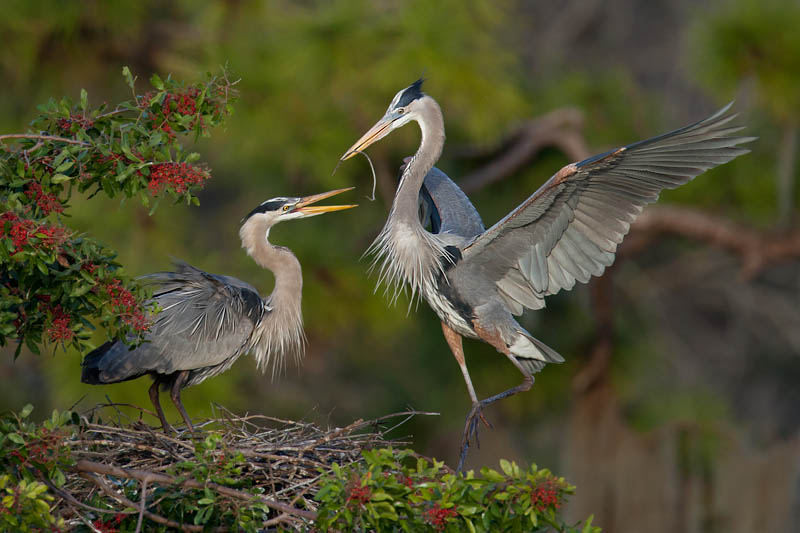heron: (348, 77, 756, 461), (78, 177, 347, 425)
